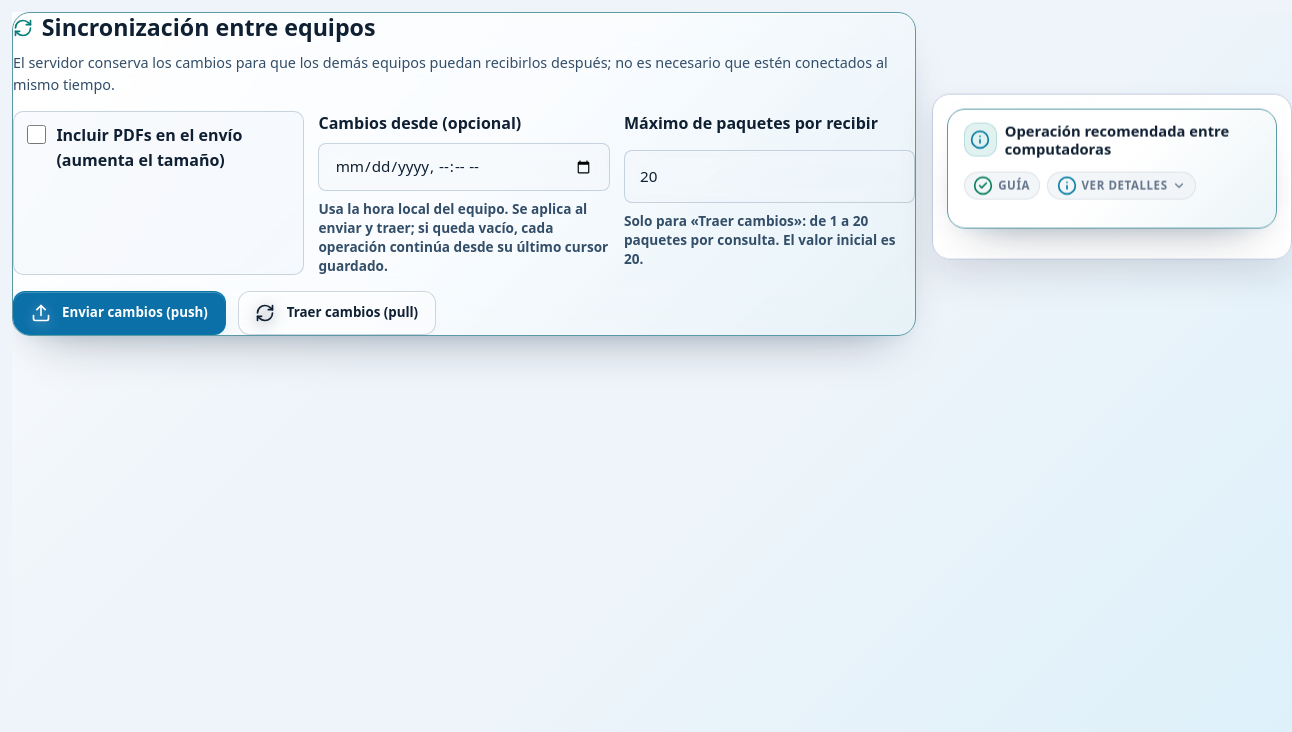
SeccionSincronizacionEquipos › maneja y muestra errores en caso de fallo durante push o pull
Click the button "Enviar cambios (push)" at (119, 313), box 13,291 -> 226,335
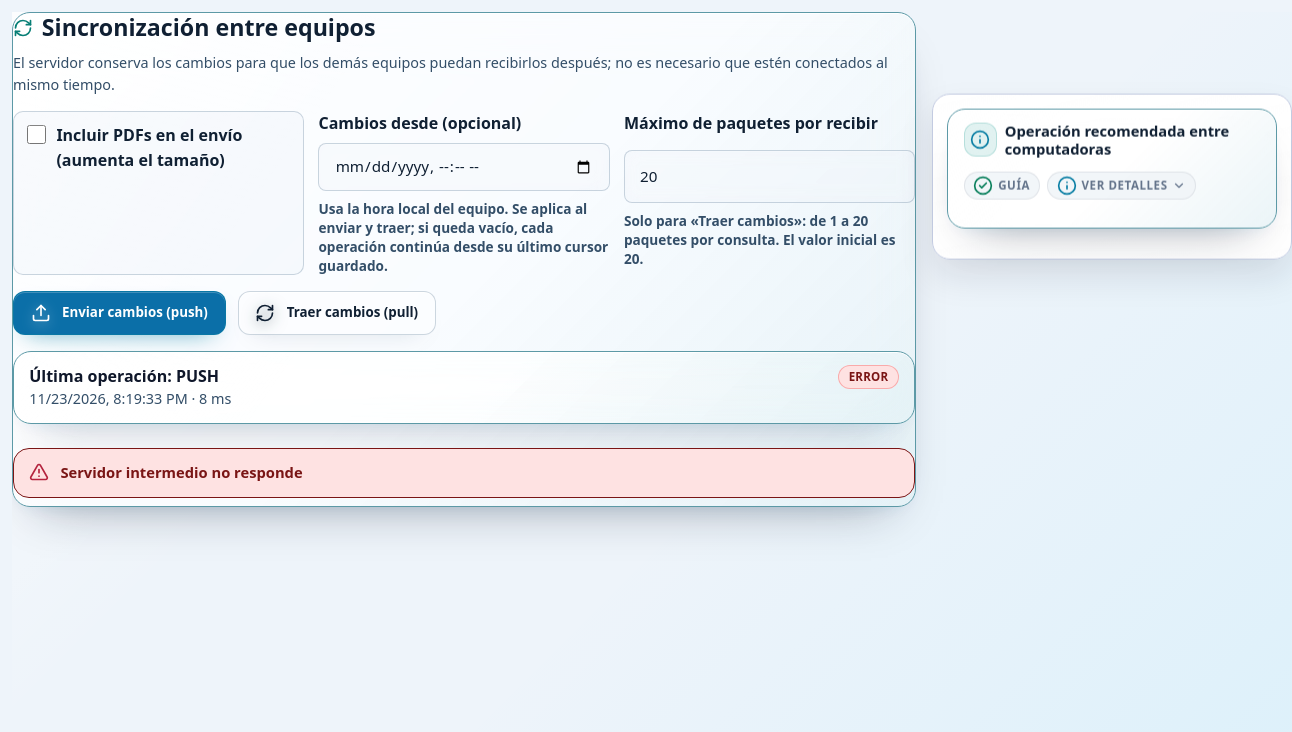
Result: the message reads "Servidor intermedio no responde" at 60,462 -> 303,482
Result: the text "Error" is shown at 838,365 -> 899,389
